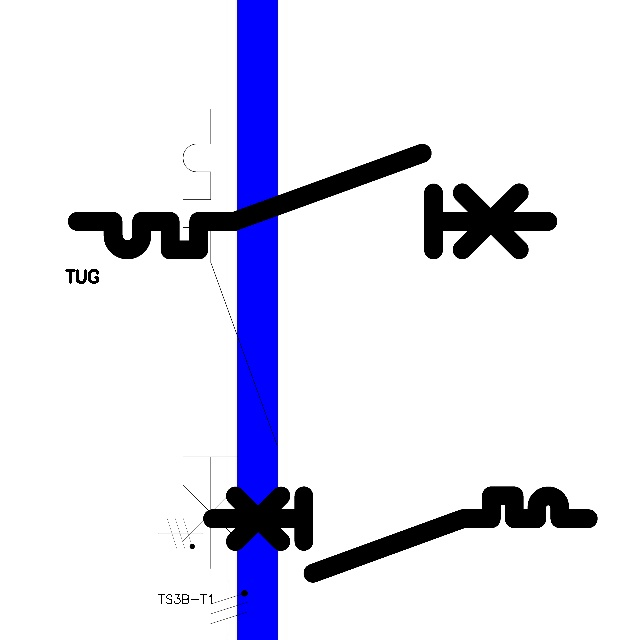interruptor_termomagnetico: (65, 141, 560, 262), (171, 97, 289, 580), (202, 486, 598, 583)
